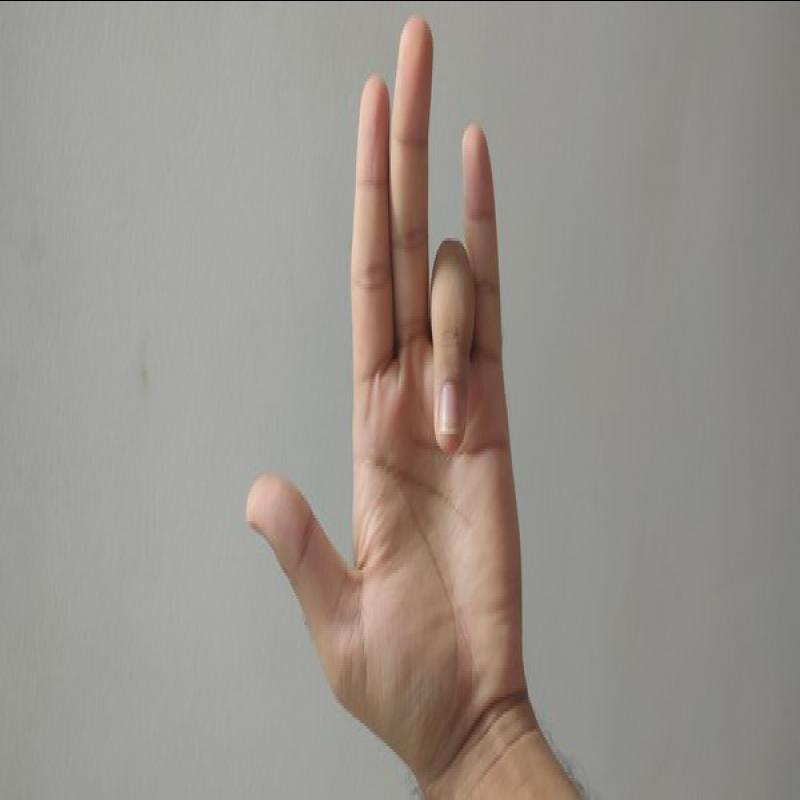Pathaaka: (236, 15, 535, 740)
